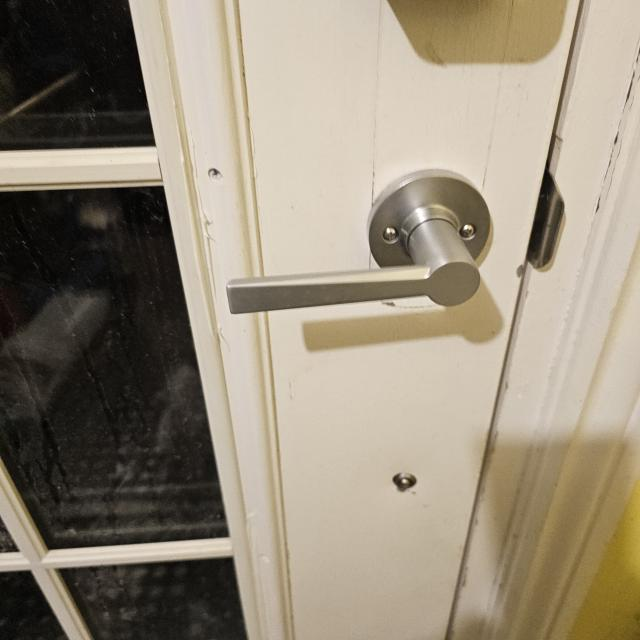door-handle: (228, 170, 490, 312)
